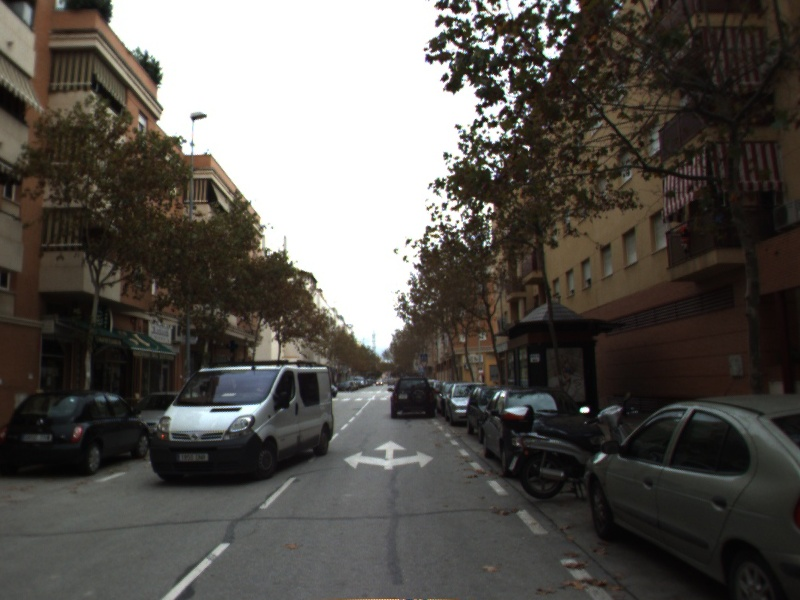STRAIGHT_LEFT_RIGHT: (342, 438, 436, 472)
